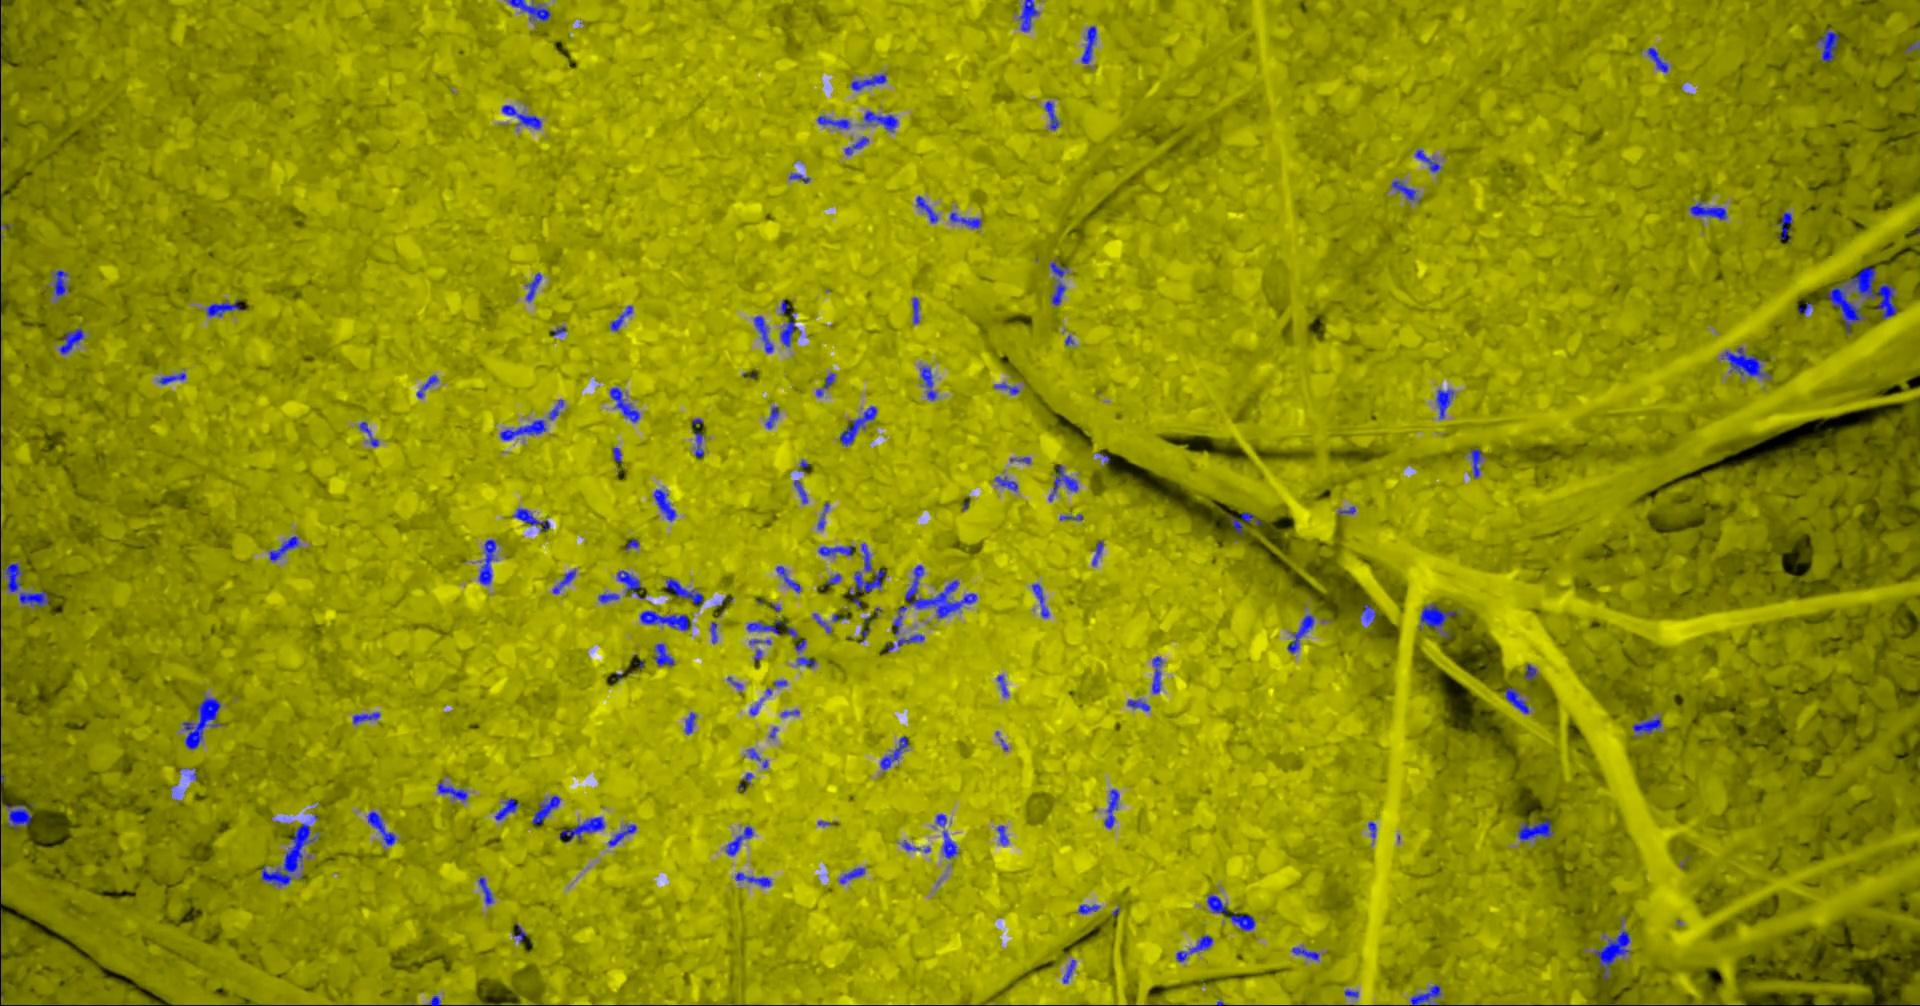ant: (904, 564, 977, 619), (262, 823, 317, 887), (182, 696, 222, 749), (1594, 929, 1629, 979), (1721, 347, 1769, 376), (839, 406, 876, 445), (559, 815, 604, 842), (1048, 464, 1078, 500), (665, 577, 703, 605), (639, 610, 691, 630), (610, 387, 639, 422), (1288, 614, 1313, 652), (879, 735, 908, 768), (367, 810, 395, 845), (502, 104, 541, 128), (1176, 935, 1211, 962), (499, 419, 545, 439), (505, 0, 550, 20), (1418, 603, 1454, 629), (477, 539, 497, 584), (531, 795, 560, 824), (616, 570, 645, 598), (725, 826, 753, 855), (1517, 818, 1553, 841), (512, 508, 549, 530), (753, 315, 773, 352), (269, 535, 298, 560), (1688, 199, 1726, 218), (1229, 511, 1261, 533), (653, 489, 676, 520), (1817, 29, 1839, 61), (775, 565, 800, 592), (886, 634, 924, 652), (4, 803, 30, 828), (863, 111, 897, 131), (855, 569, 884, 592), (850, 72, 886, 90), (206, 298, 243, 316), (778, 311, 797, 345), (1503, 687, 1529, 713), (58, 328, 83, 354), (0, 563, 23, 591), (745, 619, 787, 634), (607, 824, 636, 846), (1410, 984, 1440, 1005), (436, 781, 467, 800), (916, 196, 937, 224), (1390, 180, 1420, 201), (919, 365, 936, 400), (1018, 0, 1037, 30), (1081, 25, 1096, 64), (1415, 149, 1440, 171), (610, 305, 632, 330), (1103, 788, 1117, 828), (1031, 583, 1048, 617), (18, 589, 50, 607), (552, 569, 575, 593), (1647, 47, 1669, 72), (494, 798, 517, 821), (1435, 389, 1453, 418), (358, 420, 378, 446), (949, 212, 982, 227), (735, 873, 771, 887), (653, 643, 674, 666), (524, 272, 541, 301), (1632, 716, 1661, 733), (417, 375, 437, 398), (1043, 102, 1059, 130), (1229, 912, 1255, 930), (815, 373, 834, 396), (844, 136, 869, 154), (942, 829, 957, 857), (817, 116, 850, 128), (891, 605, 905, 634), (1777, 212, 1792, 239), (53, 269, 69, 296), (477, 876, 491, 904), (1150, 655, 1161, 694), (1206, 894, 1227, 913), (817, 545, 853, 555), (792, 479, 808, 503), (839, 868, 863, 883), (811, 614, 830, 633), (1470, 447, 1482, 478), (994, 476, 1017, 492), (817, 502, 829, 528), (1062, 959, 1076, 983), (1091, 540, 1103, 565), (1051, 282, 1065, 305), (157, 372, 185, 384), (1291, 948, 1319, 959), (1360, 603, 1377, 622), (764, 406, 778, 428), (861, 542, 871, 572), (993, 382, 1018, 394), (737, 772, 752, 791), (549, 399, 563, 419), (996, 674, 1008, 696), (1049, 262, 1067, 277), (693, 431, 703, 457), (352, 713, 378, 723), (1128, 699, 1149, 710), (996, 826, 1008, 845), (684, 713, 695, 734), (796, 655, 815, 667), (1524, 663, 1537, 680), (912, 297, 919, 323), (825, 573, 841, 586), (1077, 904, 1098, 913), (598, 593, 618, 602), (611, 447, 621, 462), (709, 621, 716, 641), (935, 813, 946, 826)
